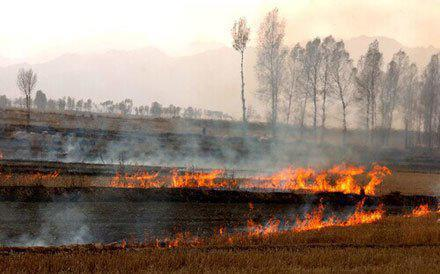fire: (233, 157, 387, 200), (109, 159, 226, 190), (292, 196, 385, 233), (244, 214, 282, 238), (406, 199, 432, 218), (161, 232, 179, 250)
